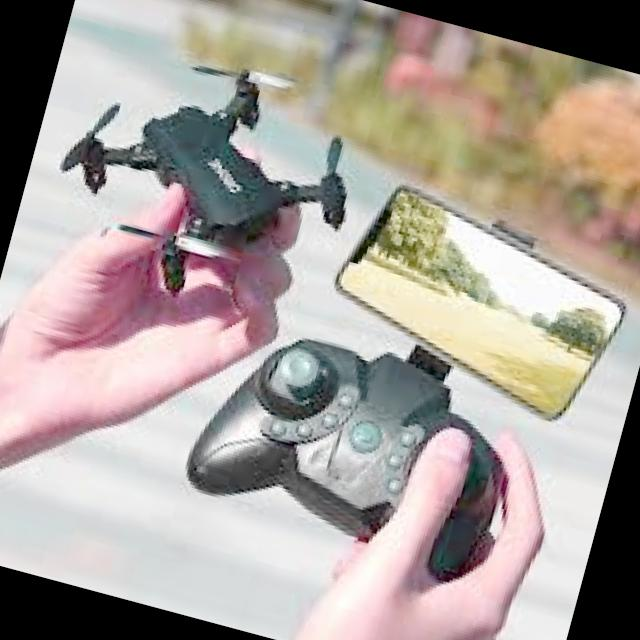drone: (38, 16, 402, 338)
